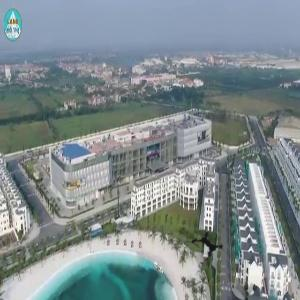drone: (173, 212, 242, 281)
